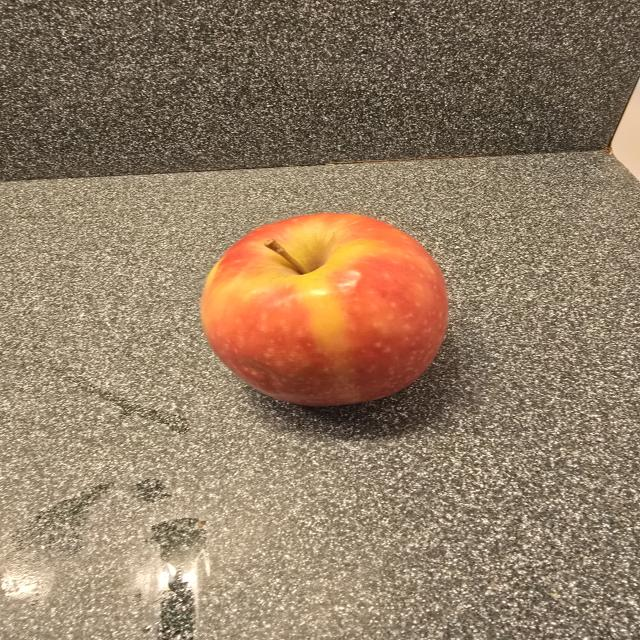Apple: (201, 214, 448, 406)
